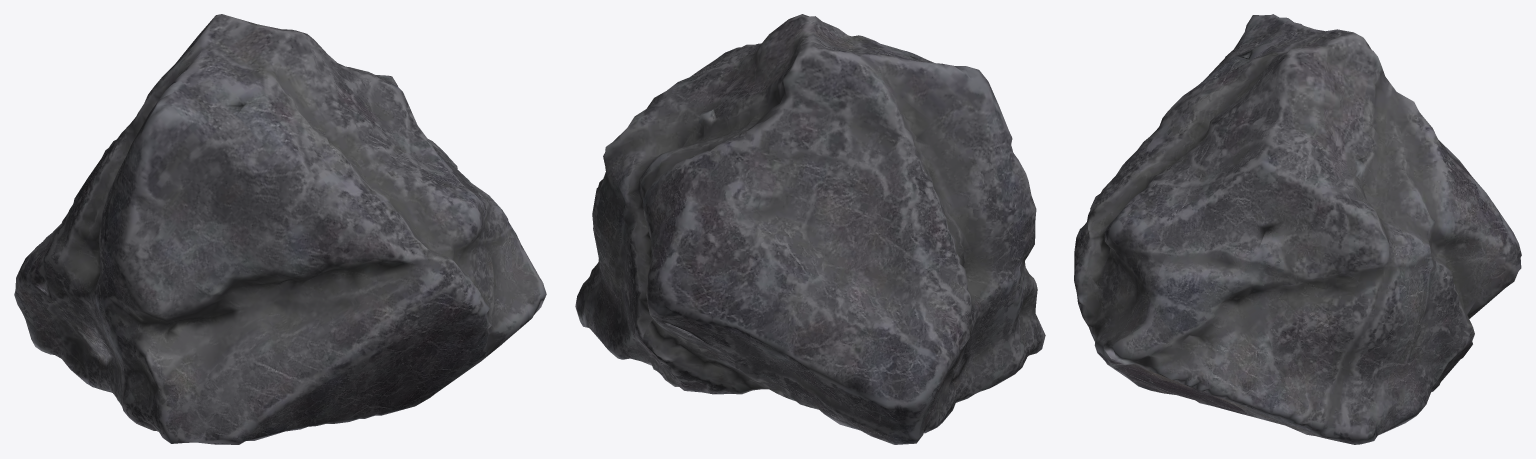
File: realboulder.glb
The picture shows the model from 3 angles, left to right: view 1: azimuth 30°, elevation 25°; view 2: azimuth 150°, elevation 25°; view 3: azimuth 270°, elevation 25°; orthographic projection. The views are drawn at different scales.
Parts seen in each view (by area): view 1: Rock2_high.001; view 2: Rock2_high.001; view 3: Rock2_high.001.
Boxes of the visible parts, x1,y1,x2,y2 form: Rock2_high.001: (14,14,546,444); Rock2_high.001: (575,14,1045,444); Rock2_high.001: (1074,14,1521,444).
Bounding box in the file's own units: 0.7349 × 0.6 × 0.7361.
Materials: 1 (1 with a texture image).
